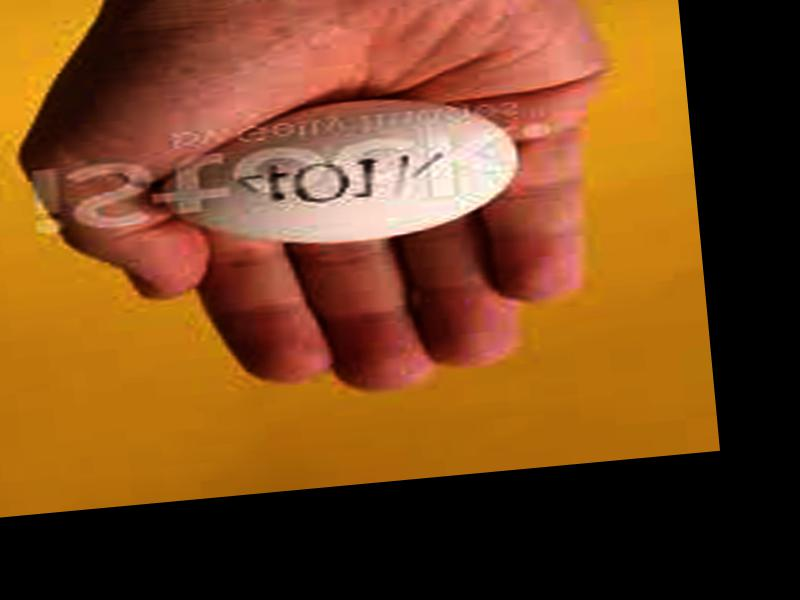Eggs: (154, 88, 523, 258)
